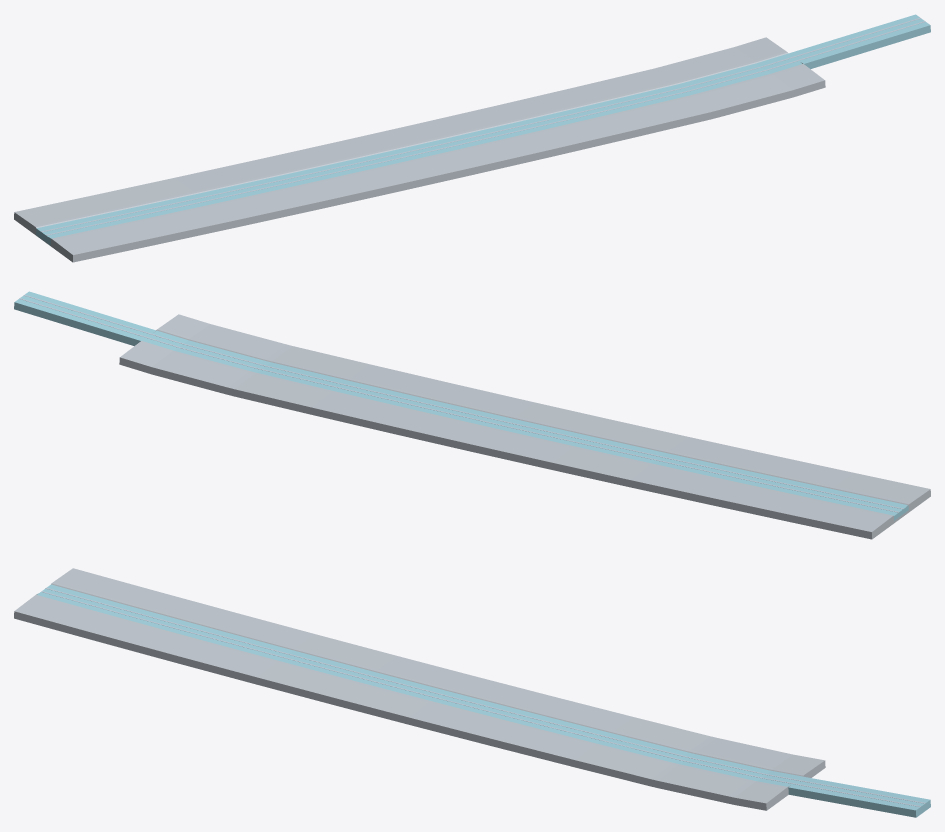
Rendered from Road_0_-2_-2.fbx.
3 views of the same model, one above another, from view 1: azimuth 30°, elevation 25°; view 2: azimuth 150°, elevation 25°; view 3: azimuth 330°, elevation 25° (orthographic).
Visible parts, largest first — view 1: Road_0_-2_-2; view 2: Road_0_-2_-2; view 3: Road_0_-2_-2.
Boxes of the visible parts, <box> form: Road_0_-2_-2: <box>14,14,930,262</box>; Road_0_-2_-2: <box>14,291,930,539</box>; Road_0_-2_-2: <box>14,568,930,817</box>.
Size of the model in its own units: 27620 by 617 by 3200.
